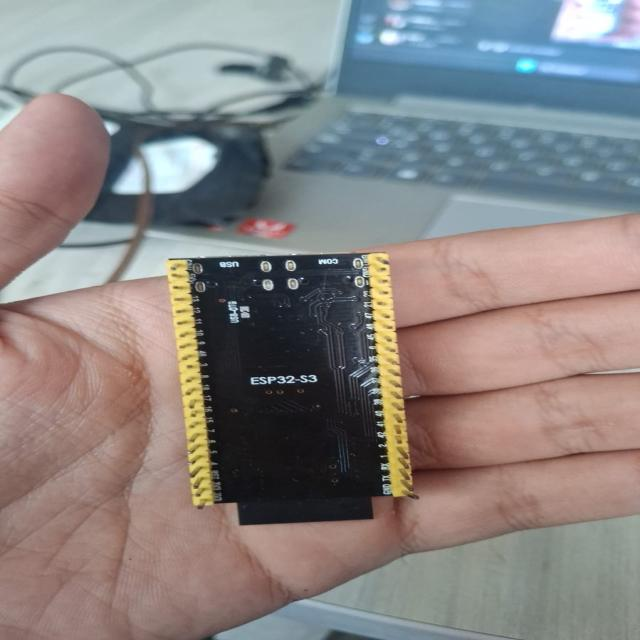ESP32: (167, 252, 417, 525)
